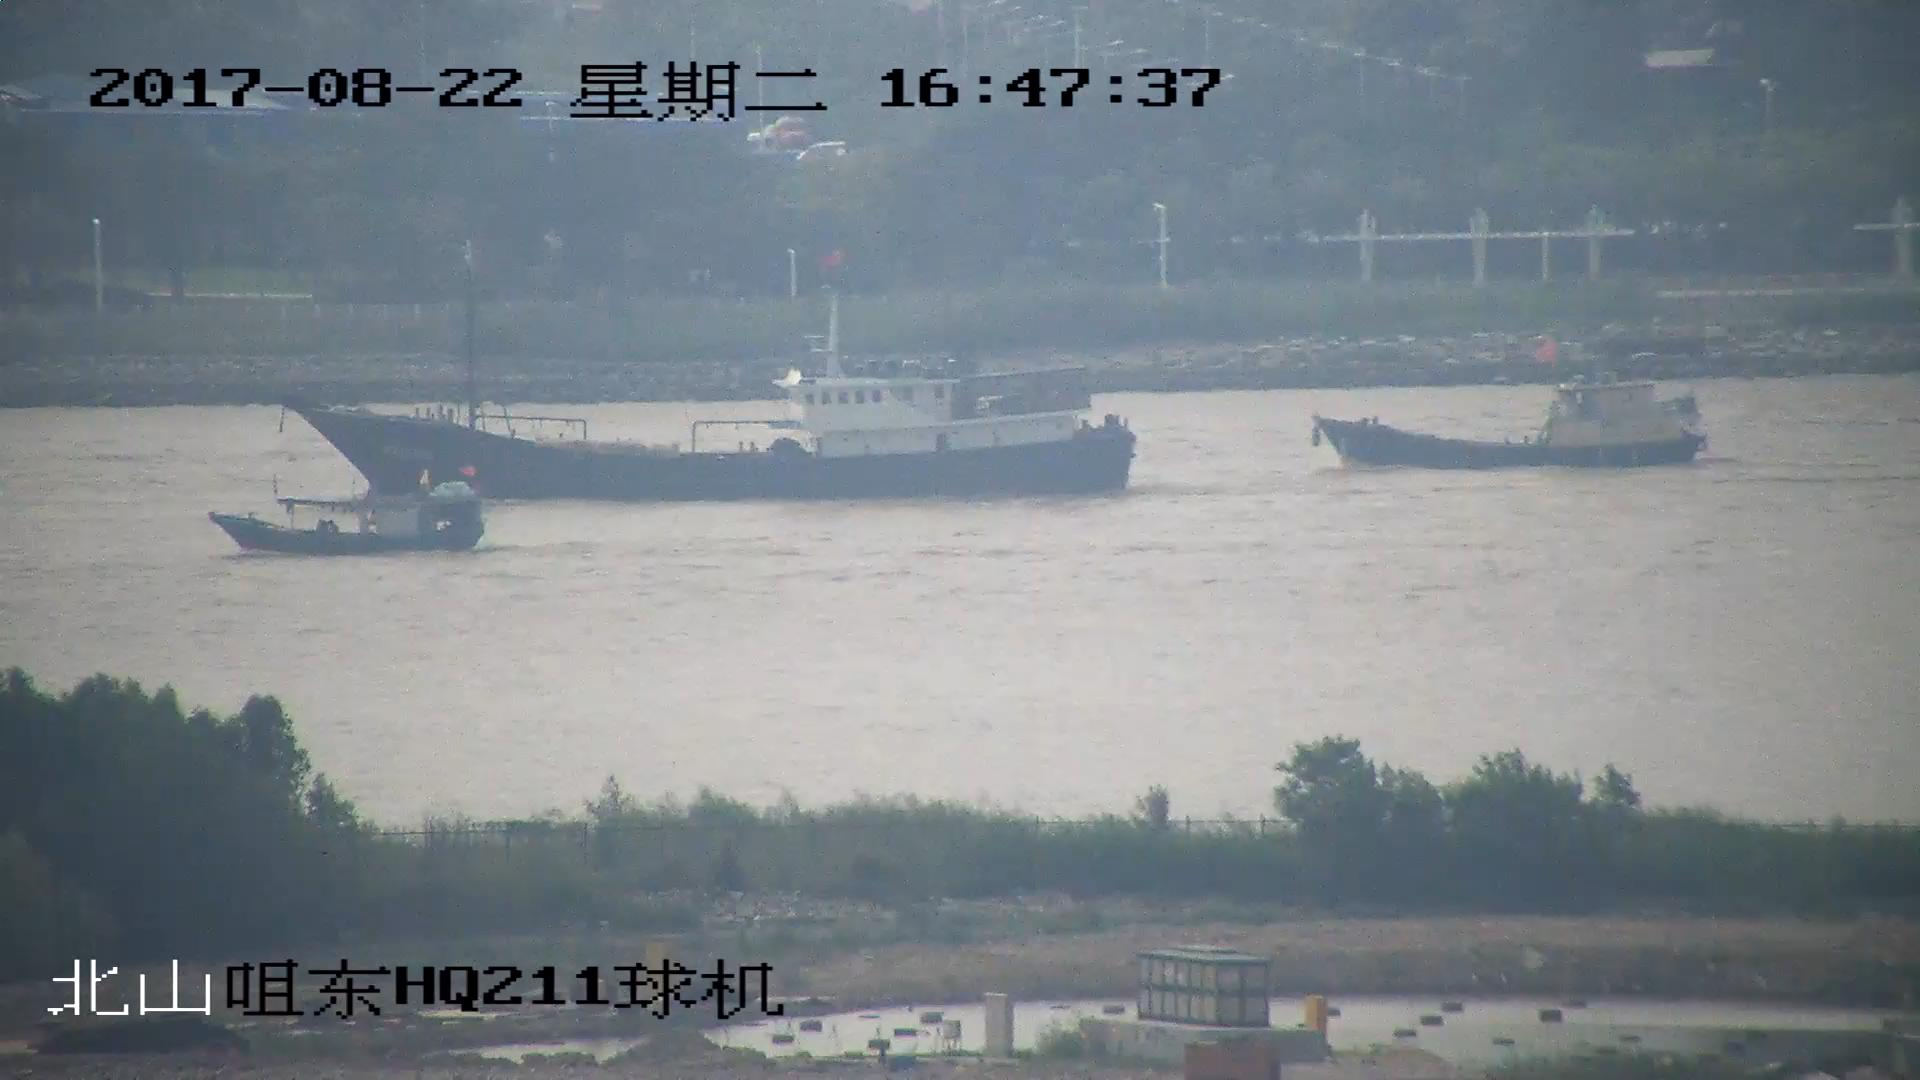fishing boat: (280, 246, 1131, 497), (1321, 342, 1702, 467), (212, 467, 487, 552)
